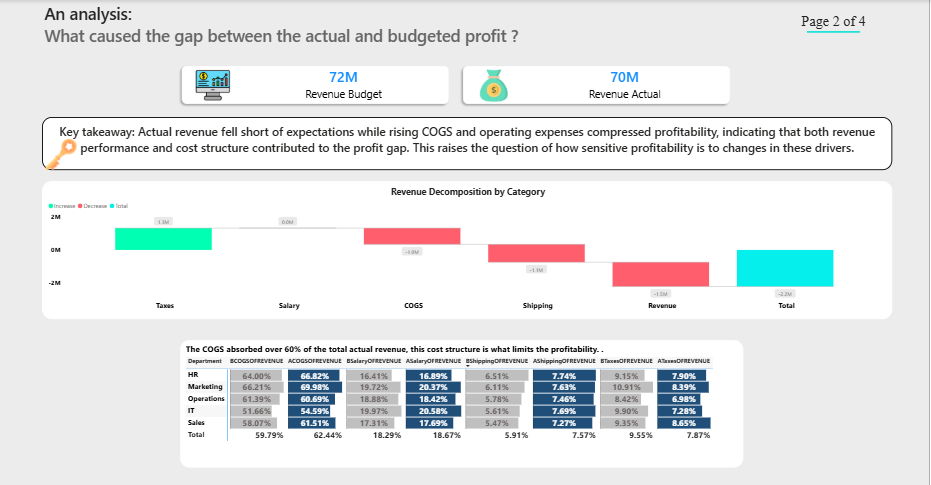

The dashboard page shown, as its layout file describes it:
{"tool":"powerbi","page":{"name":"Page 2","canvas":[2100,1100],"ordinal":1},"visuals":[{"type":"pivotTable","title":"The COGS absorbed over 60% of the total actual revenue, this cost structure is what limits the profitability. .","fields":{"Rows":["DepartDim.Department"],"Values":["FactBvA.%BCOGS","FactBvA.%ACOGS","FactBvA.%BSalary","FactBvA.%ASalary","FactBvA.%BShipping","FactBvA.%AShipping","FactBvA.%BTaxes","FactBvA.%ATaxes"]},"box":[408,768,1272,288],"z":0},{"type":"waterfallChart","title":" Revenue Decomposition by Category","fields":{"Category":["Variance Categories.Category"],"Y":["Variance Categories.Variance Waterfall"]},"box":[96,408,1920,312],"z":1000},{"type":"cardVisual","fields":{"Data":["FactBvA.Revenue Budget","FactBvA.Revenue Actual"]},"box":[384,120,1296,144],"z":2000},{"type":"textbox","box":[96,0,1560,120],"z":3000},{"type":"textbox","box":[1668,24,432,144],"z":4000},{"type":"shape","box":[1824,0,120,144],"z":5000},{"type":"textbox","box":[96,264,1920,120],"z":6000},{"type":"image","box":[97.1,313.9,85.8,70],"z":7000}]}

Visuals, with their boxes in screenshot pixels (x1, y1, x2, y2), scaled from the page's 2100x1100 canvas onto the 931x485 screenshot:
"The COGS absorbed over 60% of the total actual revenue, this cost structure is what limits the profitability. ." pivotTable: <box>181,339,745,466</box>
" Revenue Decomposition by Category" waterfallChart: <box>43,180,894,317</box>
cardVisual - FactBvA.Revenue Budget x FactBvA.Revenue Actual: <box>170,53,745,116</box>
textbox: <box>43,0,734,53</box>
textbox: <box>739,11,930,74</box>
shape: <box>809,0,862,63</box>
textbox: <box>43,116,894,169</box>
image: <box>43,138,81,169</box>
